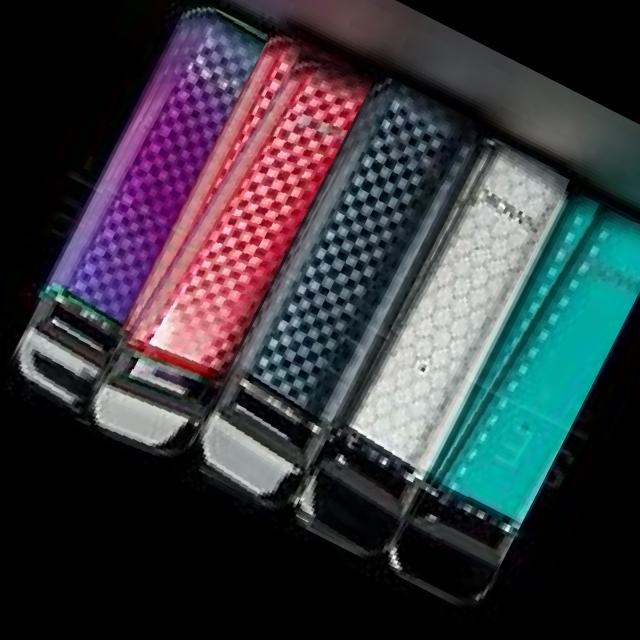Hazard: (178, 72, 482, 520), (72, 22, 376, 470), (288, 135, 569, 563), (0, 0, 268, 421), (379, 186, 640, 614)
